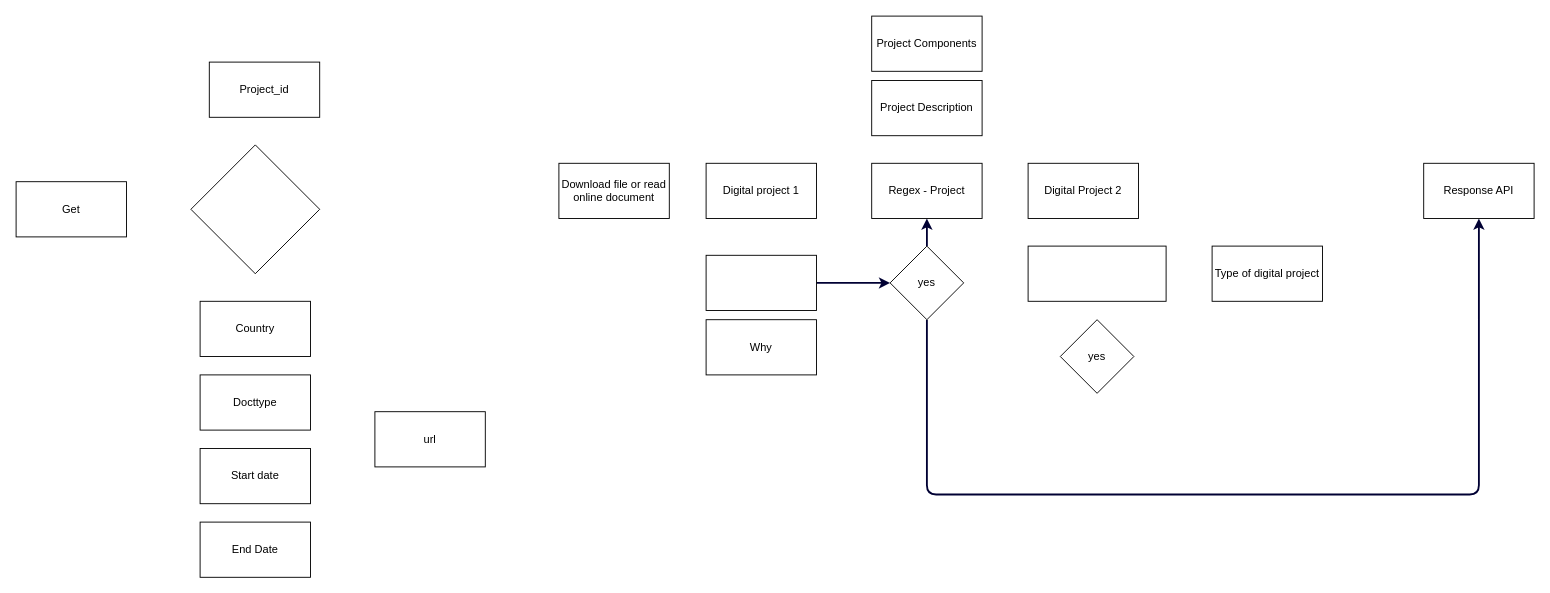
The diagram is 1550 pixels wide and 593 high, and some of its shapes have lost their labels. The shapes that lost their labels are listed below. From the top down, each one's box as (x1, y1, x2, y2) in pixels, then its label:
(190, 144, 320, 274): Specific document
(705, 254, 816, 310): is_digital_first_search GPT -
(1027, 245, 1166, 301): is_digital_second_search
